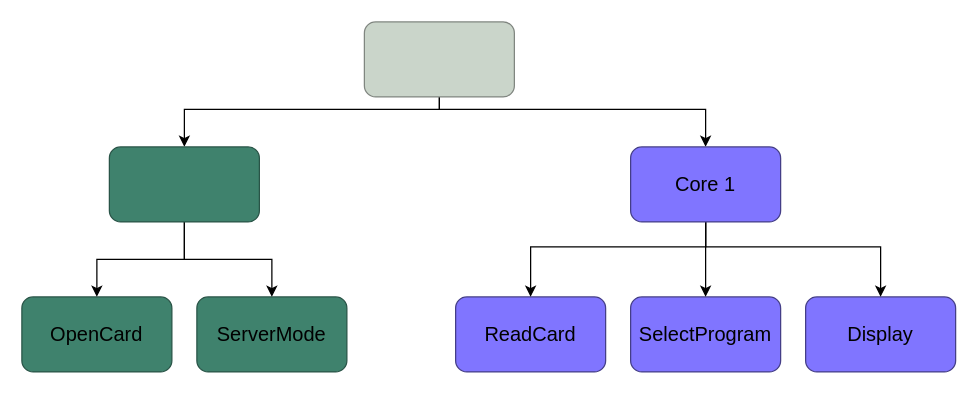
This 978x394 diagram has some shape labels left out. The centre of each missing label's shape, as x and y in pixels:
Core 0: point 183,184
Main: point 438,59
